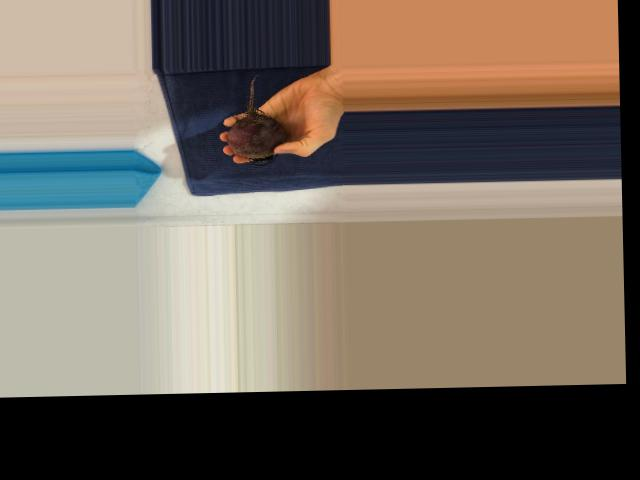beet: (225, 73, 285, 166)
